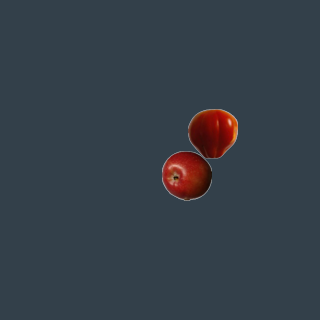Apple Braeburn: (161, 150, 211, 200)
Tomato 1: (187, 108, 237, 158)
